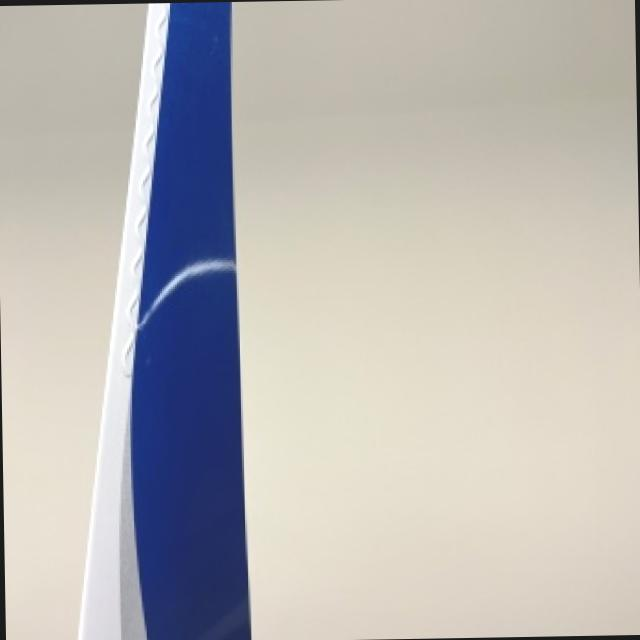healthy: (83, 1, 251, 640)
